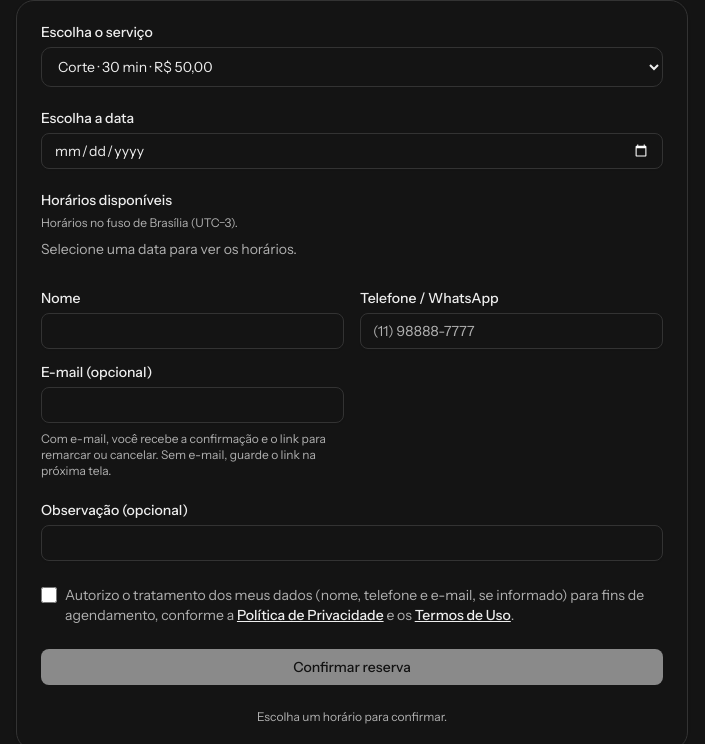
it: BookingWidget › a negócio suspended mid-flow (ADR 0013) gets its own message and no waitlist offer
This screenshot has width=705, height=744.
Type "2026-10-20" into the date field labelled "Escolha a data".
click(352, 151); type("2026-10-20")  # box x1=41 y1=133 x2=663 y2=169
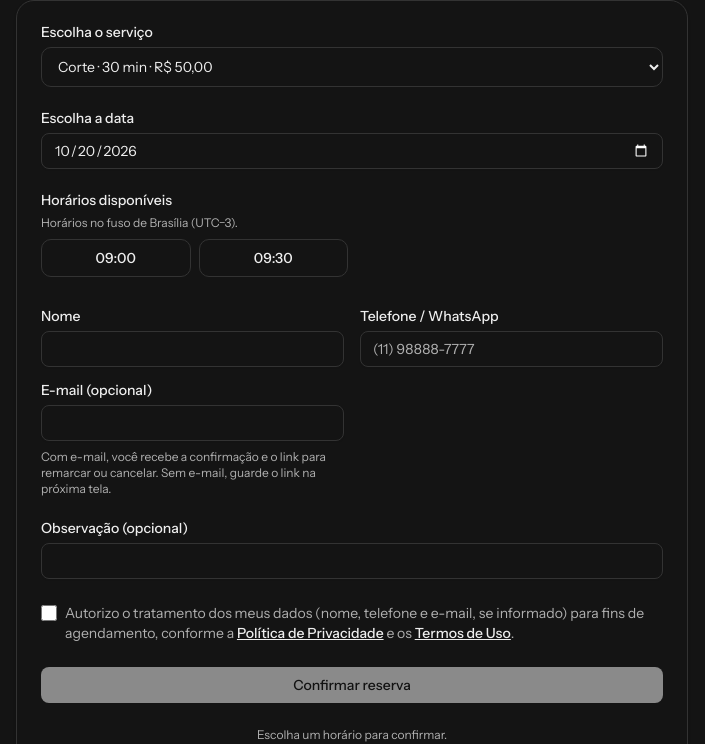
Click the button "09:00".
click(116, 258)  # box x1=41 y1=239 x2=190 y2=277
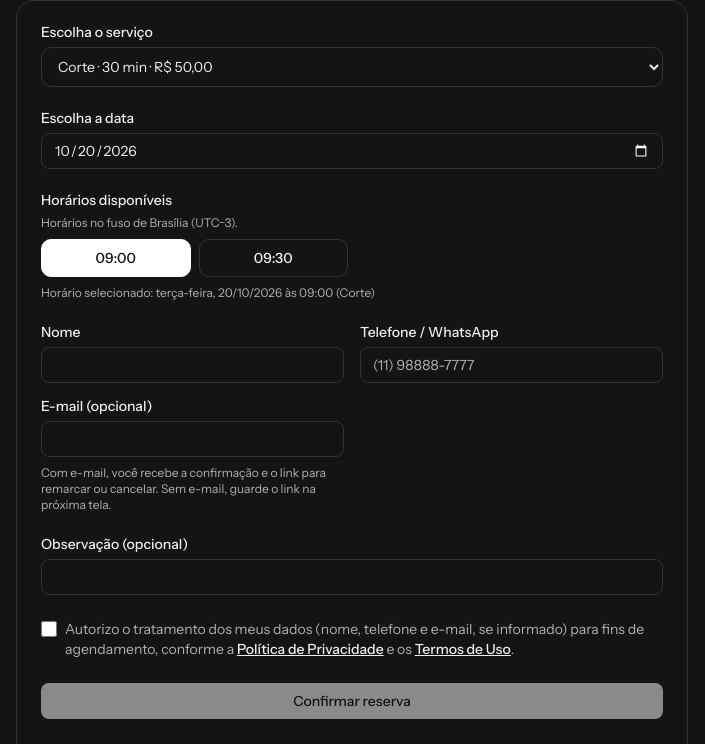
Type "Maria Souza" into the field labelled "Nome".
click(192, 365); type("Maria Souza")  # box x1=41 y1=347 x2=344 y2=383
Type "11987654321" into the field labelled "Telefone / WhatsApp".
click(512, 365); type("11987654321")  # box x1=360 y1=347 x2=663 y2=383
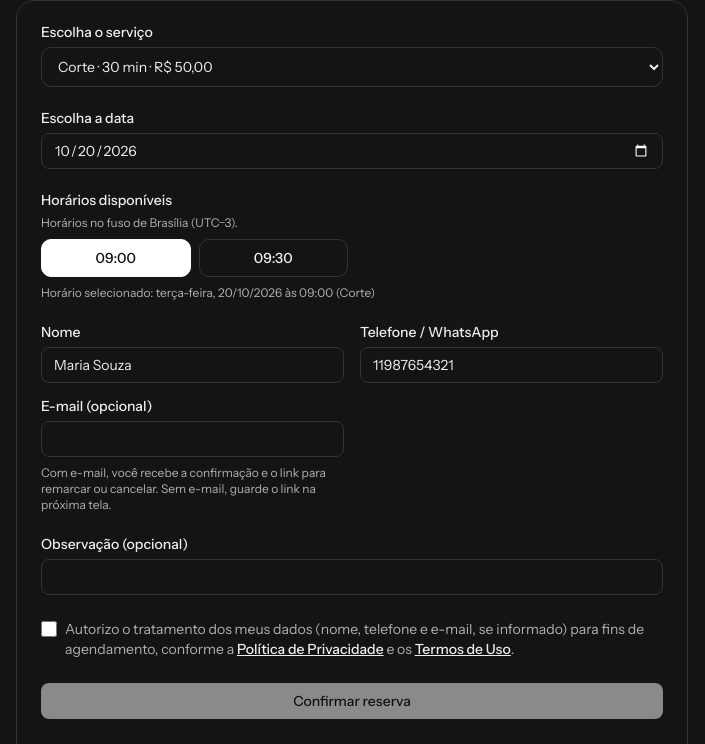
Type "maria@example.com" into the field labelled "E-mail (opcional)".
click(192, 439); type("maria@example.com")  # box x1=41 y1=421 x2=344 y2=457
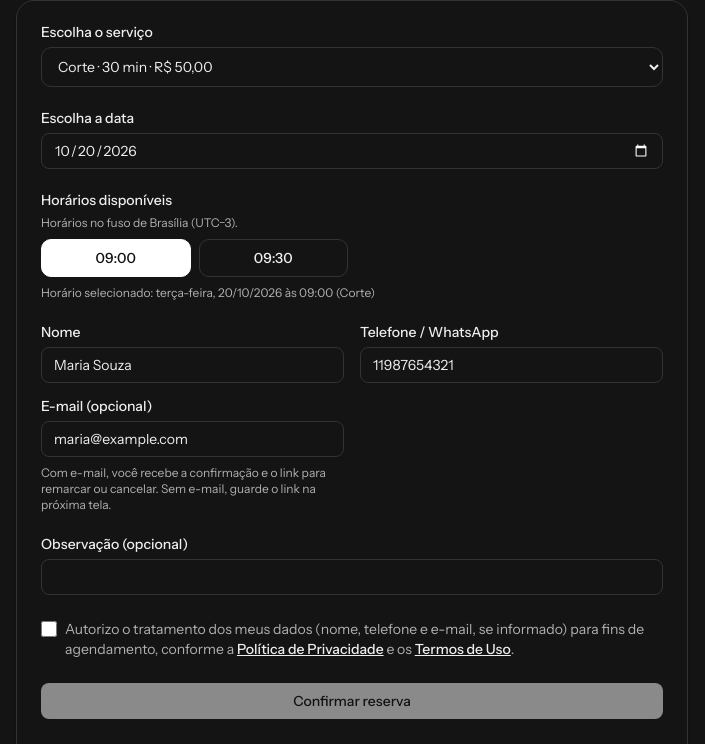
Click the checkbox.
click(49, 629)  # box x1=41 y1=621 x2=57 y2=637
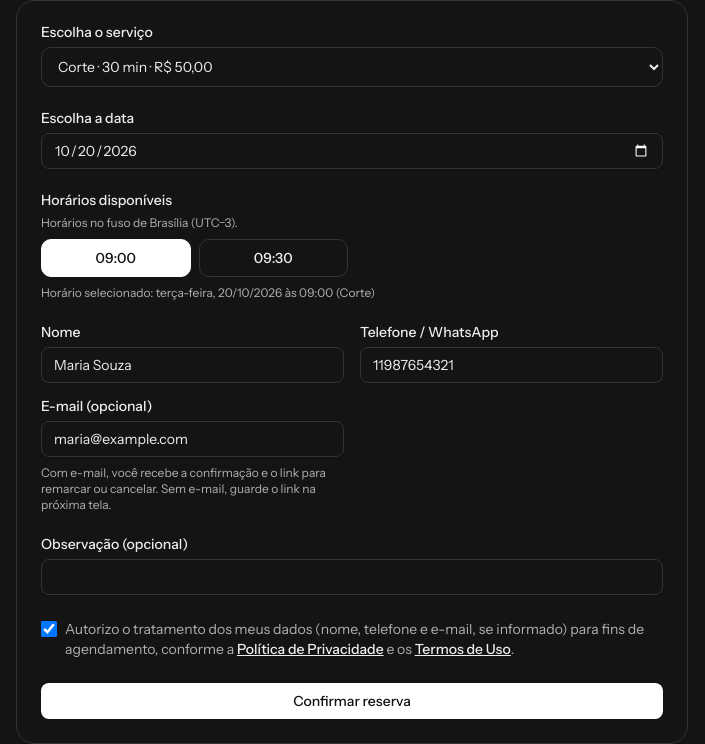
Click the button "Confirmar reserva".
click(352, 701)  # box x1=41 y1=683 x2=663 y2=719
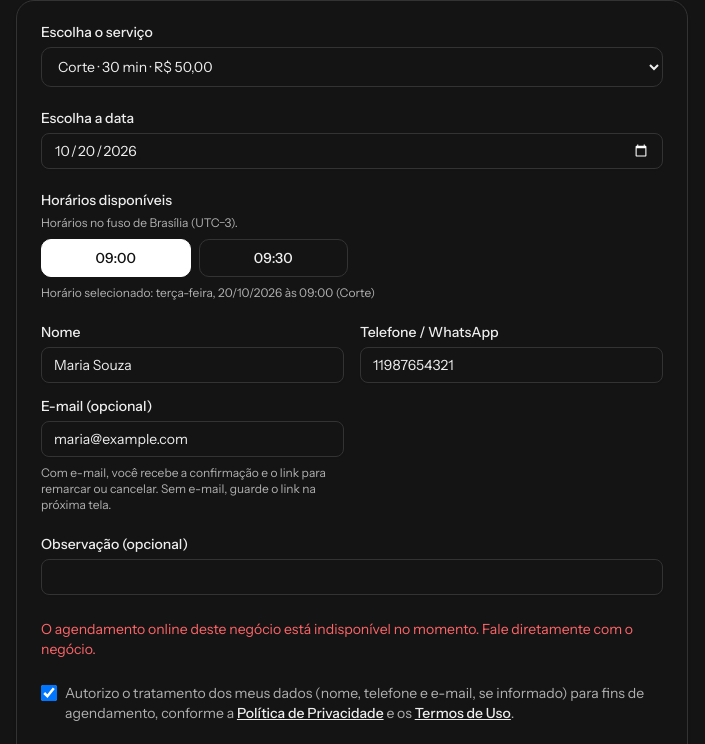
Now the message shows "O agendamento online deste negócio está indisponível no momento.", box x1=41 y1=620 x2=633 y2=658
